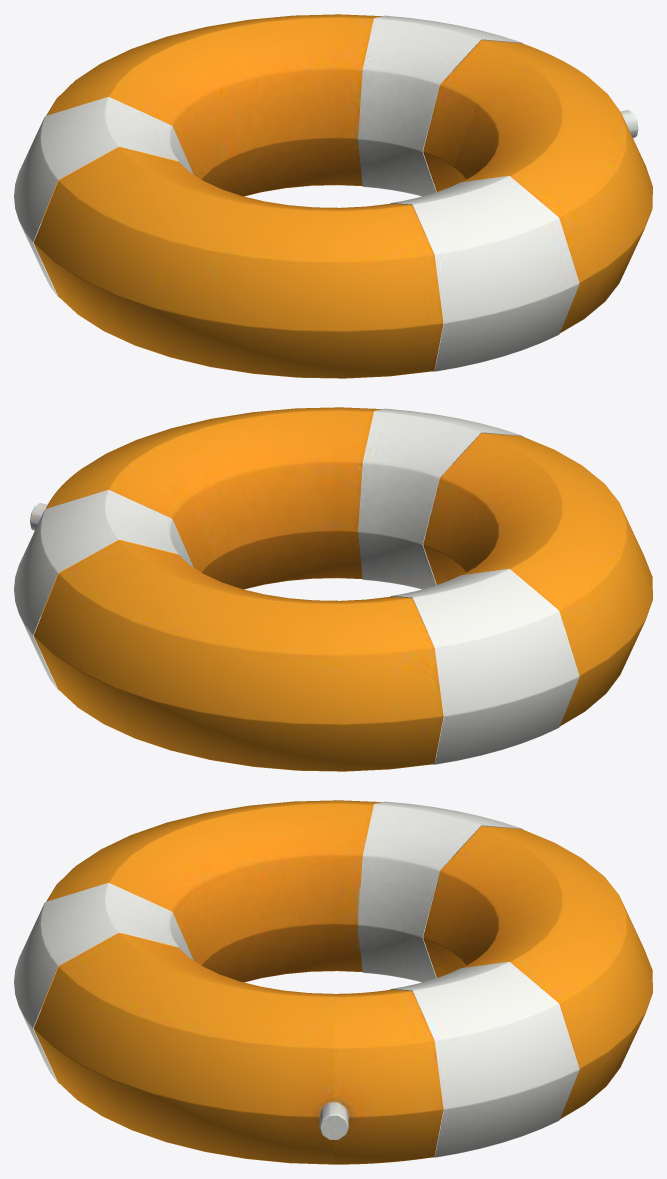
Rendered from LV_inflatable_ring.glb.
3 views of the same model, one above another, from view 1: azimuth 30°, elevation 25°; view 2: azimuth 150°, elevation 25°; view 3: azimuth 270°, elevation 25° (orthographic).
Visible parts, largest first — view 1: LV_inflatable_ring; view 2: LV_inflatable_ring; view 3: LV_inflatable_ring.
Part boxes in pixels (left/top/right/bottom): LV_inflatable_ring: left=14, top=14, right=652, bottom=378; LV_inflatable_ring: left=14, top=407, right=652, bottom=771; LV_inflatable_ring: left=14, top=800, right=652, bottom=1164.
Bounding box in the file's own units: 0.9844 × 0.2709 × 0.9487.
1 material, 1 textured.
